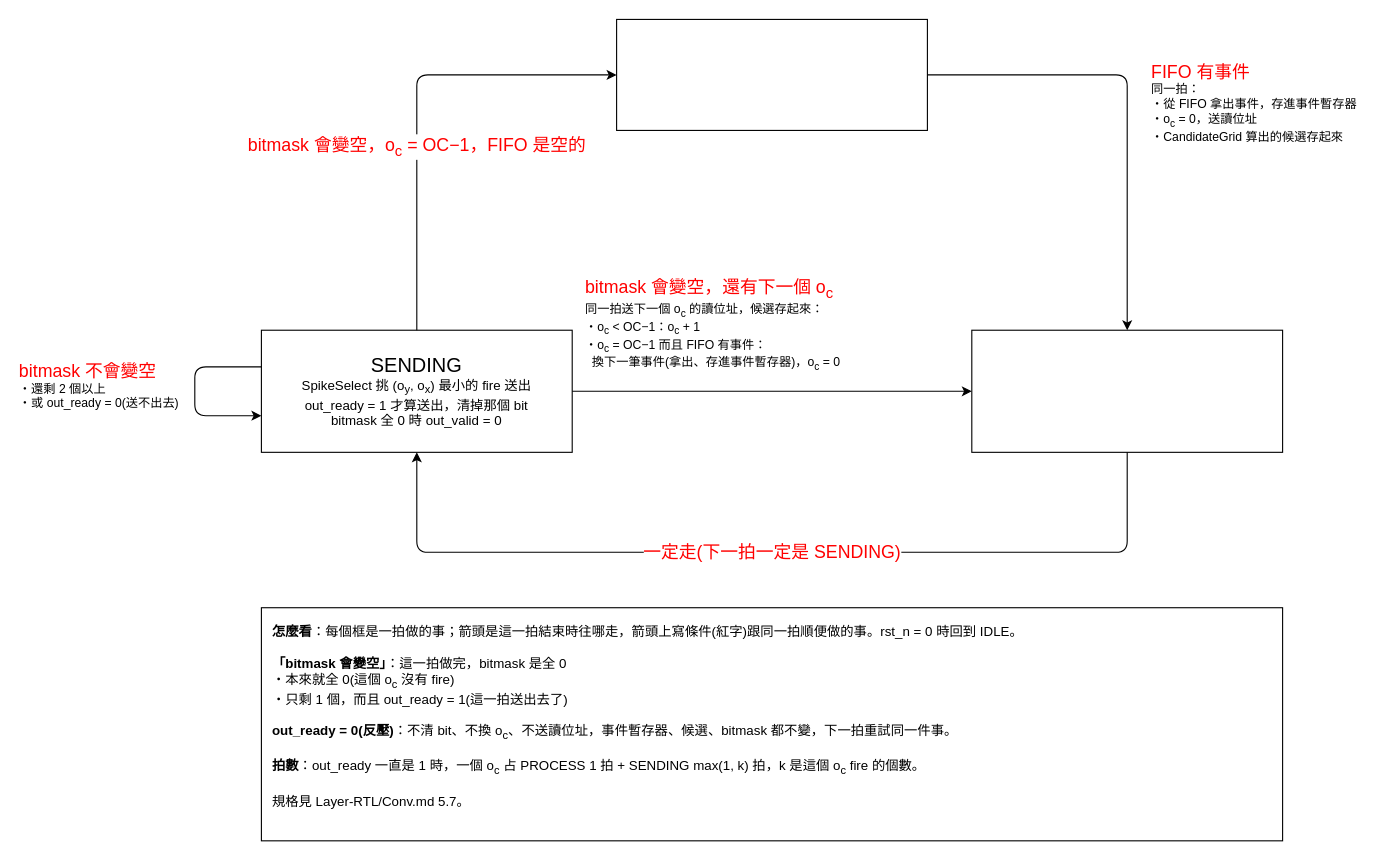
Image size: 1375x860. Some labels were removed from this diagram. The shapes that lost their labels are listed below. From the top down, each one's box as (x1, y1, x2, y2) in pixels, then its label:
(615, 18, 927, 130): IDLE 等事件：EventFIFO 是空的 清除神經元記憶體時也停在這裡 (清除期間不收事件)
(971, 329, 1283, 452): PROCESS 讀出的資料就緒 M×M 個候選一起算 (s, V̂ new ) 合法的候選寫回 V̂、t last s ∧ valid 存進 bitmask
